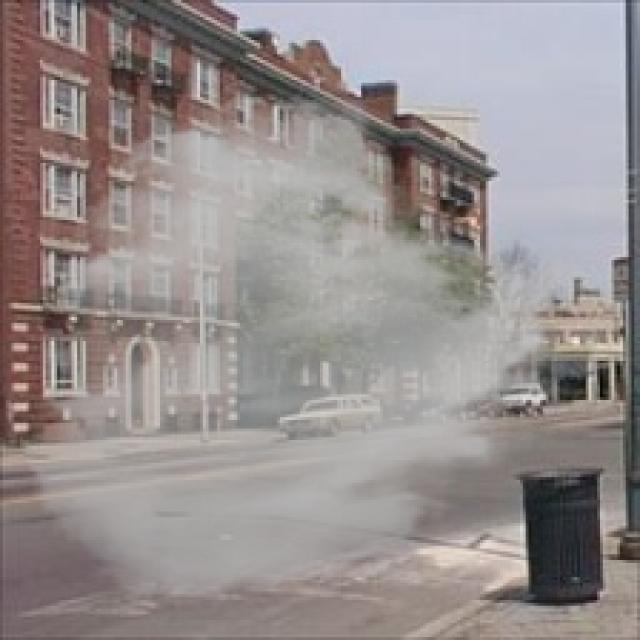smoke: (20, 89, 586, 612)
